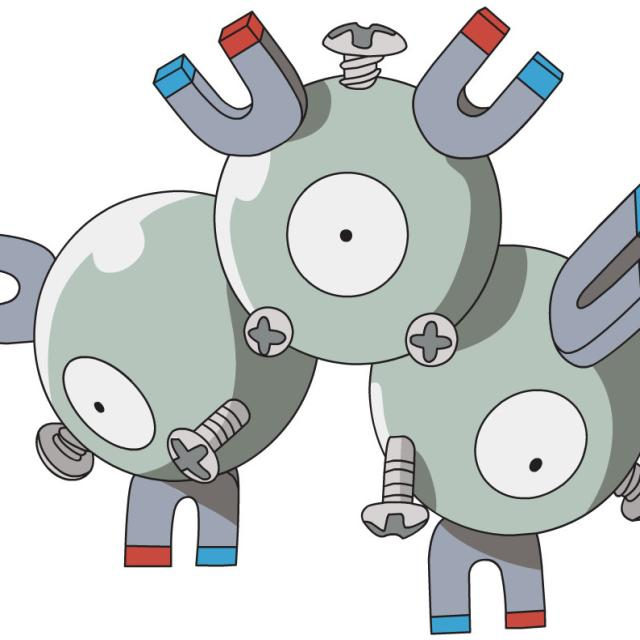Magneton: (0, 23, 640, 591)
